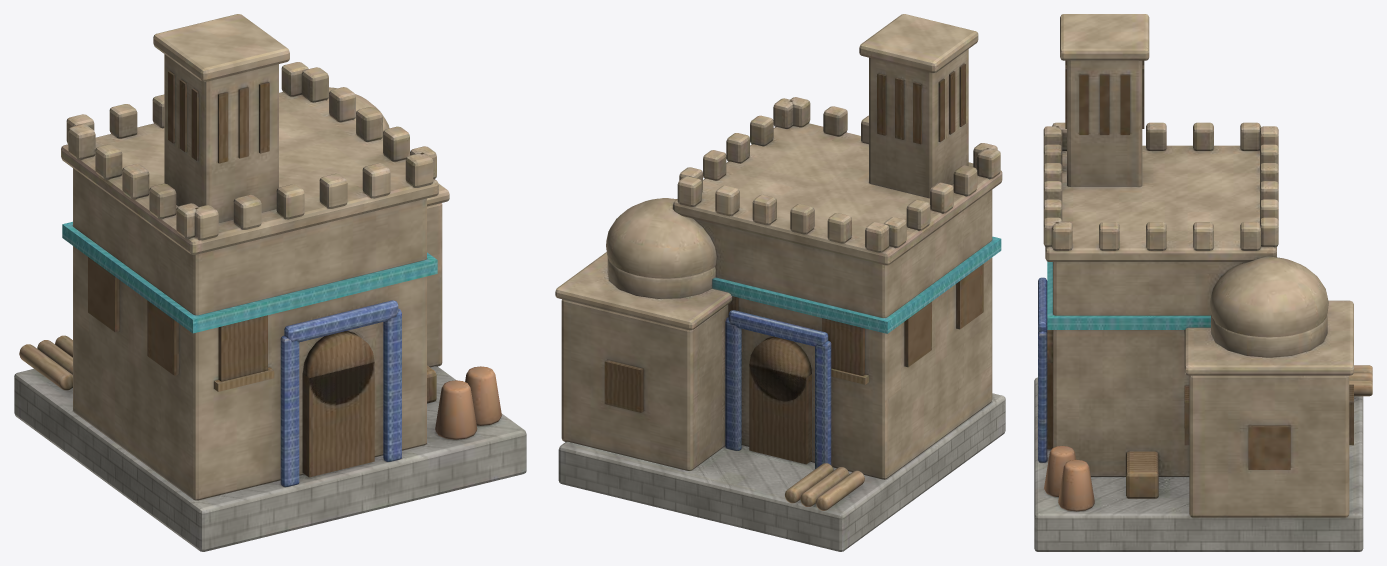
File: house.glb
3 views of the same model, side by side, from view 1: azimuth 30°, elevation 25°; view 2: azimuth 150°, elevation 25°; view 3: azimuth 270°, elevation 25° (orthographic). The views are drawn at different scales.
Visible parts, largest first — view 1: house; view 2: house; view 3: house.
Boxes of the visible parts, <box> form: house: <box>14,14,526,551</box>; house: <box>555,14,1005,551</box>; house: <box>1034,14,1372,551</box>.
Size of the model in its own units: 3.65 by 4.79 by 3.6.
Materials: 1 (1 with a texture image).
